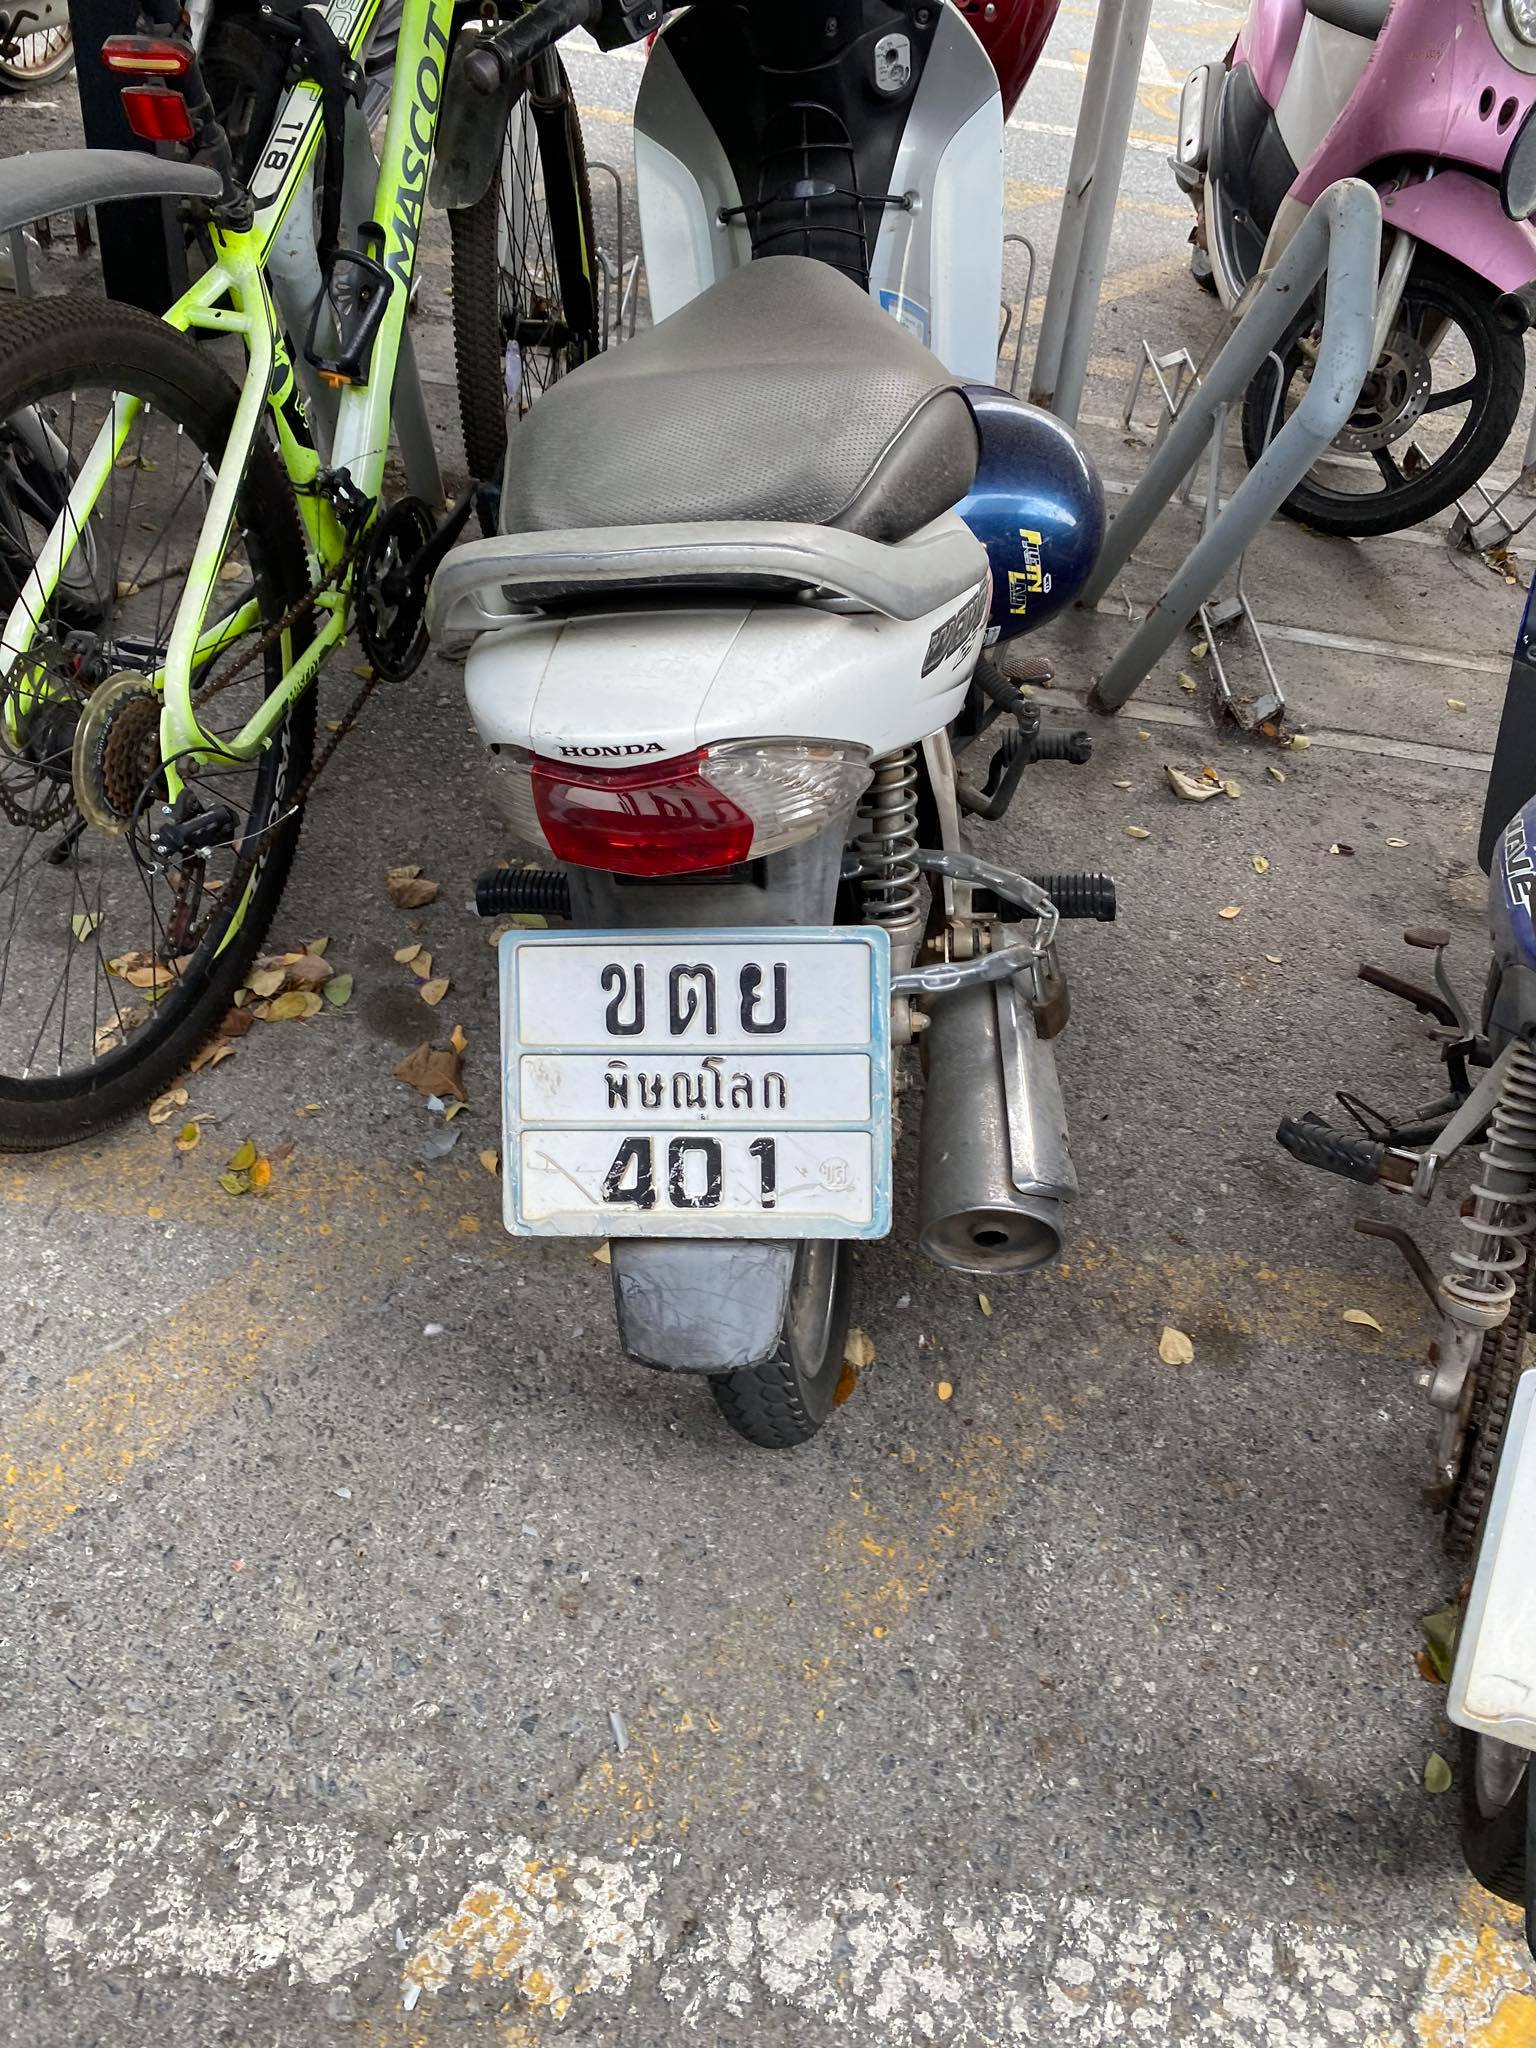line1: (586, 942, 800, 1042)
line2: (594, 1055, 797, 1121)
line3: (591, 1135, 787, 1221)
